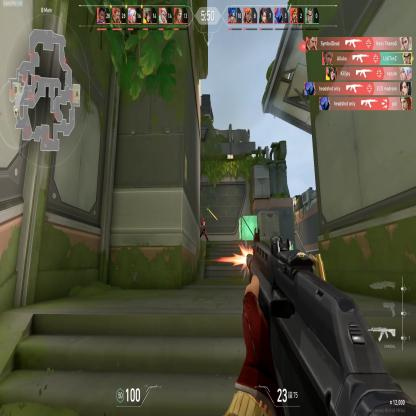enemy: (199, 217, 209, 241)
